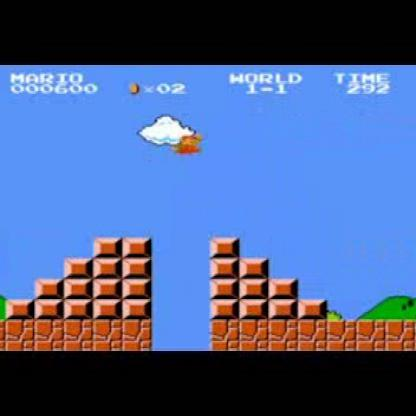Hoyo: (145, 319, 214, 351)
